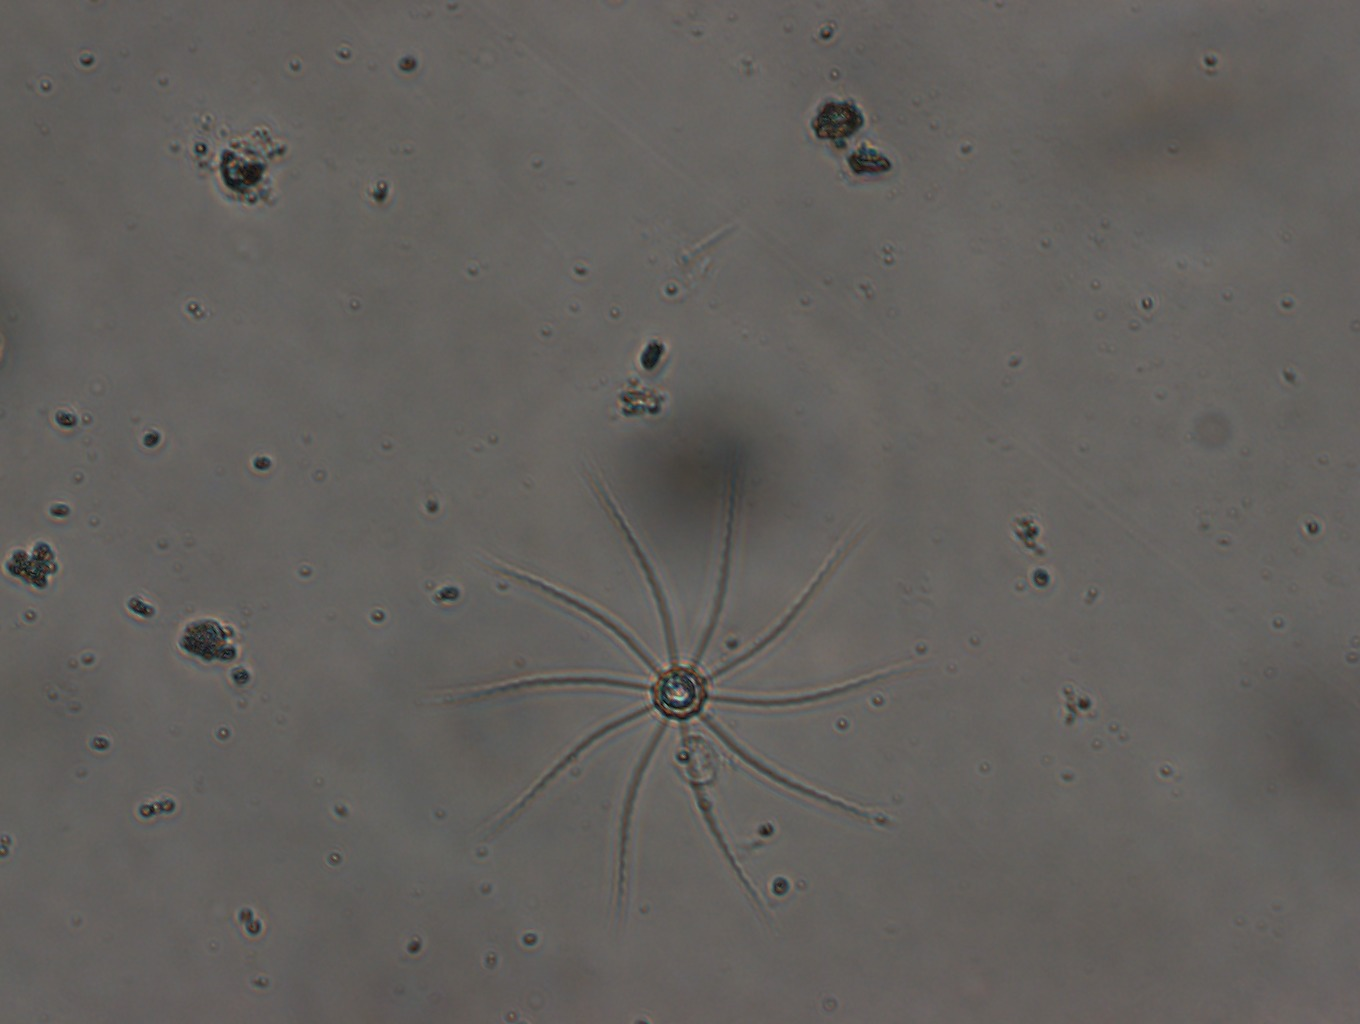bacteriastrum: (446, 464, 913, 935)
